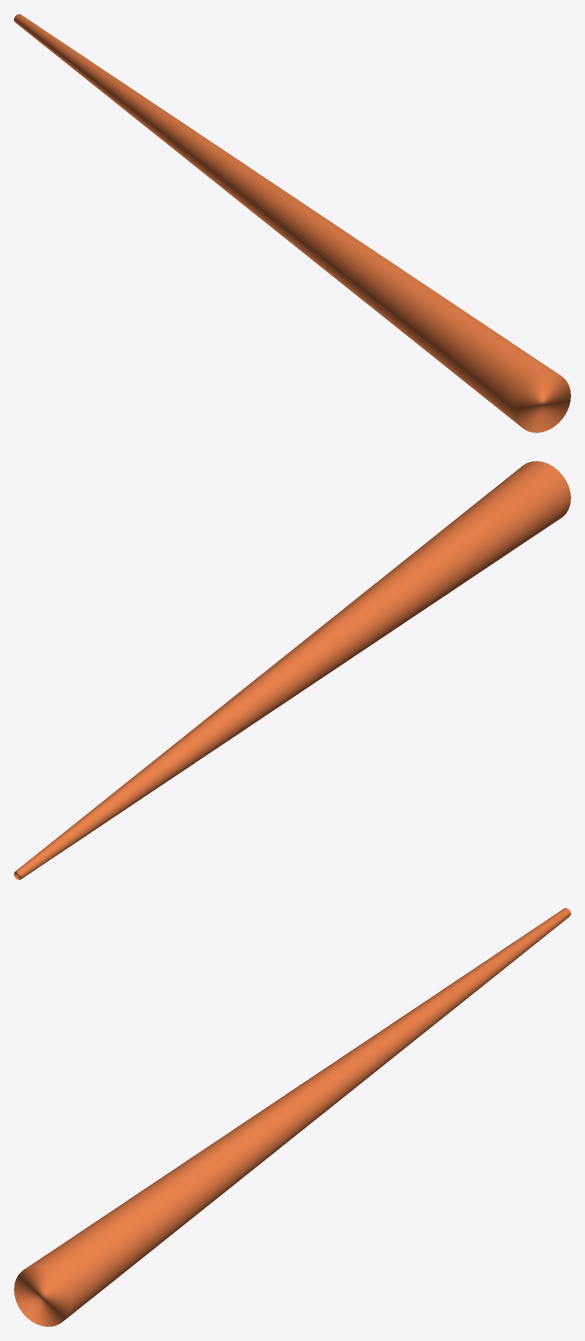
File: stick.glb
3 renders of one model, top to bottom at view 1: azimuth 30°, elevation 25°; view 2: azimuth 150°, elevation 25°; view 3: azimuth 330°, elevation 25°, orthographic.
Parts seen in each view (by area): view 1: Cylinder; view 2: Cylinder; view 3: Cylinder.
Part boxes in pixels (x1,y1,x2,y2): Cylinder: [14, 14, 570, 432]; Cylinder: [14, 461, 570, 879]; Cylinder: [14, 908, 570, 1326].
Size of the model in its own units: 0.3472 by 0.3472 by 5.59.
